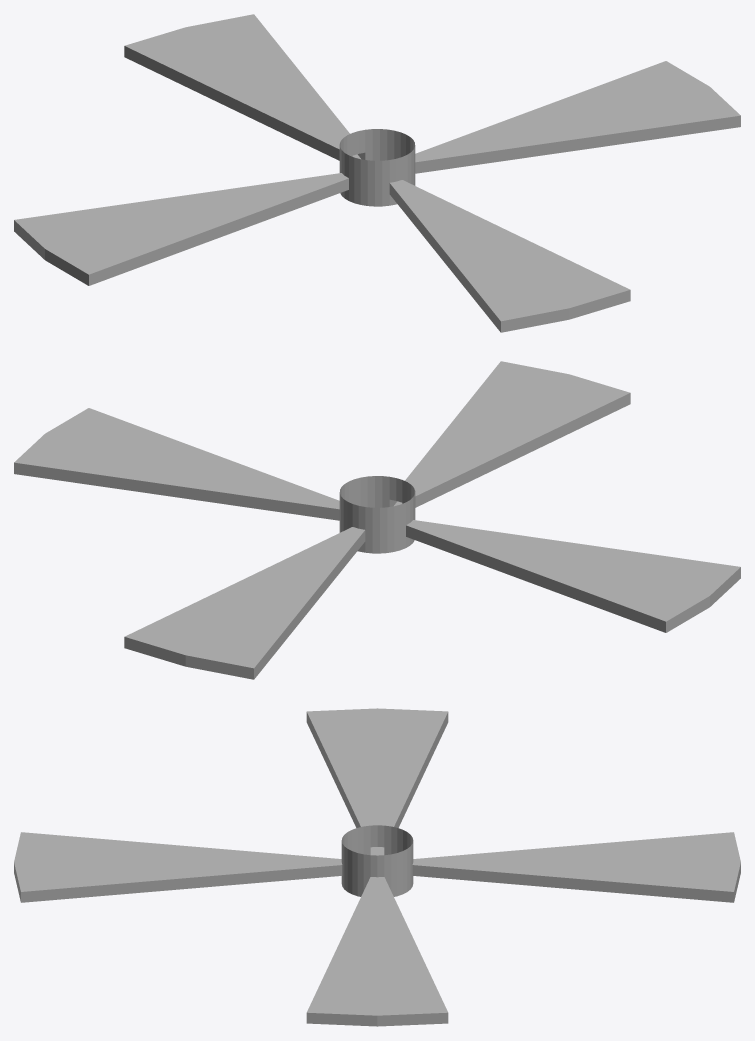
The model's file is elice.obj.
The picture shows the model from 3 angles, top to bottom: view 1: azimuth 30°, elevation 25°; view 2: azimuth 150°, elevation 25°; view 3: azimuth 270°, elevation 25°; orthographic projection. The views are drawn at different scales.
Parts seen in each view (by area): view 1: Brush_1; view 2: Brush_1; view 3: Brush_1.
Boxes of the visible parts, bbox=[...] form: Brush_1: bbox=[14, 14, 740, 332]; Brush_1: bbox=[14, 361, 740, 679]; Brush_1: bbox=[14, 708, 740, 1026].
Bounding box in the file's own units: 1.2 × 0.0788 × 1.2.
1 material, 1 textured.
